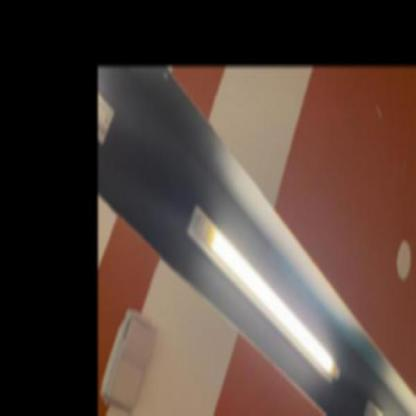light_on: (176, 191, 346, 386), (362, 388, 416, 414)
